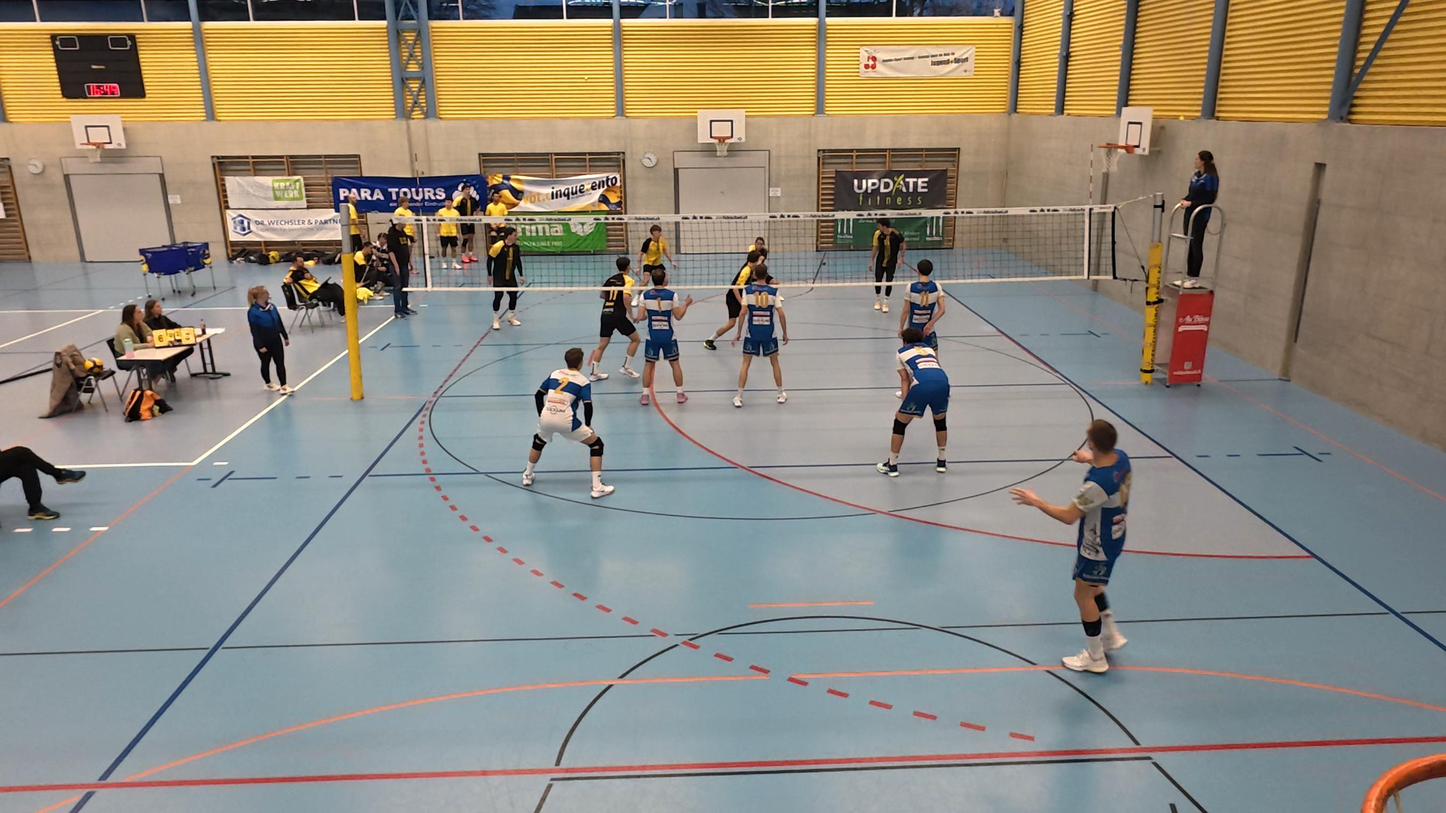ricezione: (743, 234, 775, 284)
